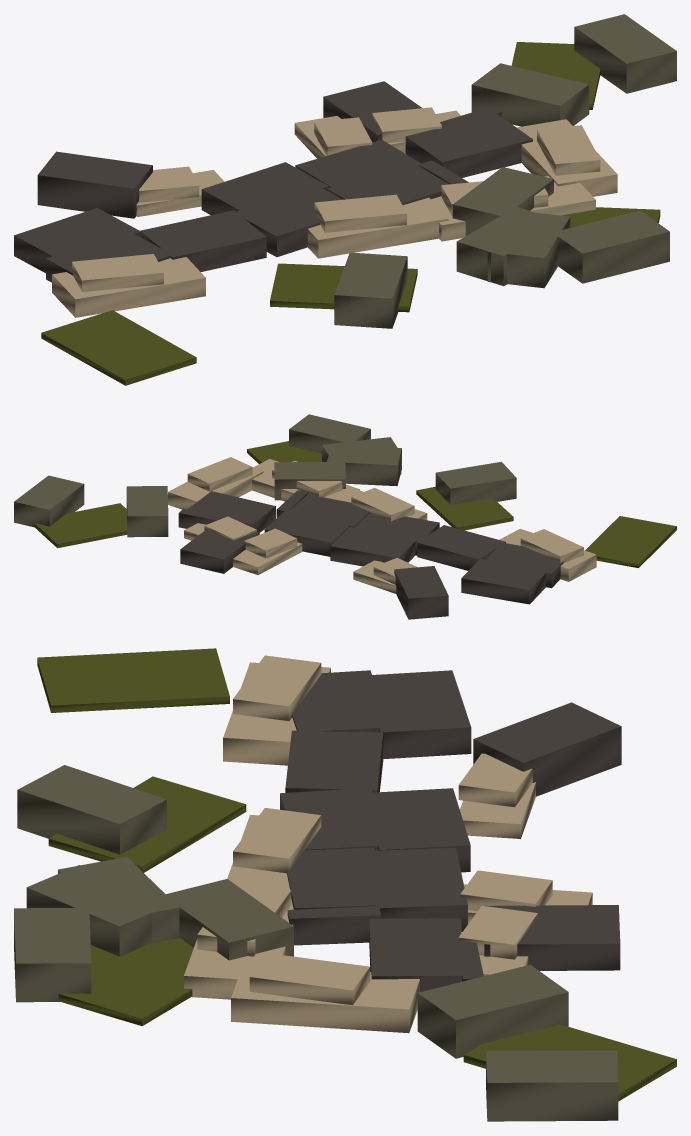
Rendered from SM_SacosRemateEspejo_v4_Red_e3_Brecha_LOD1.fbx.
3 renders of one model, top to bottom at view 1: azimuth 30°, elevation 25°; view 2: azimuth 150°, elevation 25°; view 3: azimuth 270°, elevation 25°, orthographic. The views are drawn at different scales.
Parts seen in each view (by area): view 1: SM_sacos_piezas_v39_LOD1; view 2: SM_sacos_piezas_v39_LOD1; view 3: SM_sacos_piezas_v39_LOD1.
Boxes of the visible parts, <box> form: SM_sacos_piezas_v39_LOD1: <box>14,14,676,385</box>; SM_sacos_piezas_v39_LOD1: <box>14,414,676,619</box>; SM_sacos_piezas_v39_LOD1: <box>14,648,676,1121</box>.
Size of the model in its own units: 6.72 by 0.26 by 4.05.
